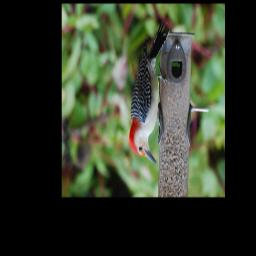Woodpecker: (128, 19, 172, 165)
